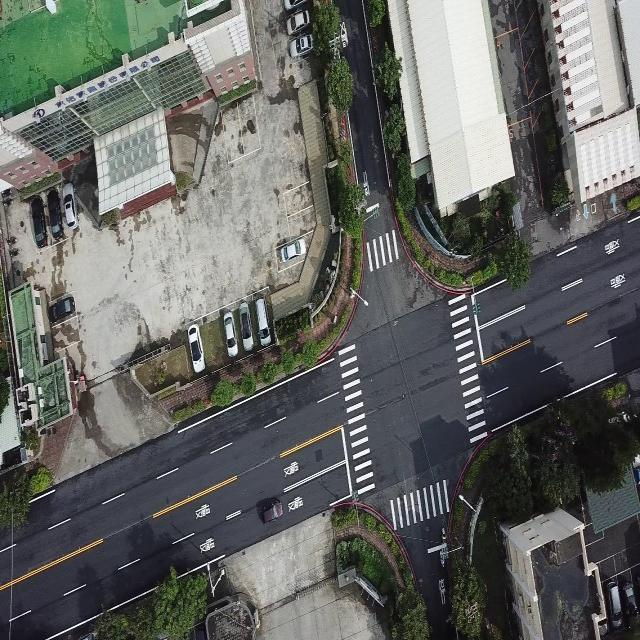car: (31, 194, 48, 249), (47, 293, 76, 325), (622, 583, 640, 630), (255, 298, 271, 349), (188, 324, 204, 374), (63, 181, 79, 229), (240, 300, 254, 353), (49, 186, 62, 242), (609, 579, 623, 630), (223, 310, 236, 356), (287, 32, 311, 56), (279, 239, 304, 262), (261, 497, 284, 522), (288, 10, 310, 34), (282, 0, 303, 10)
